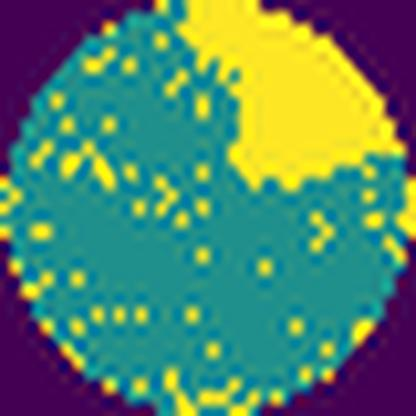Edge-Loc: (167, 0, 415, 192), (386, 177, 416, 242)
